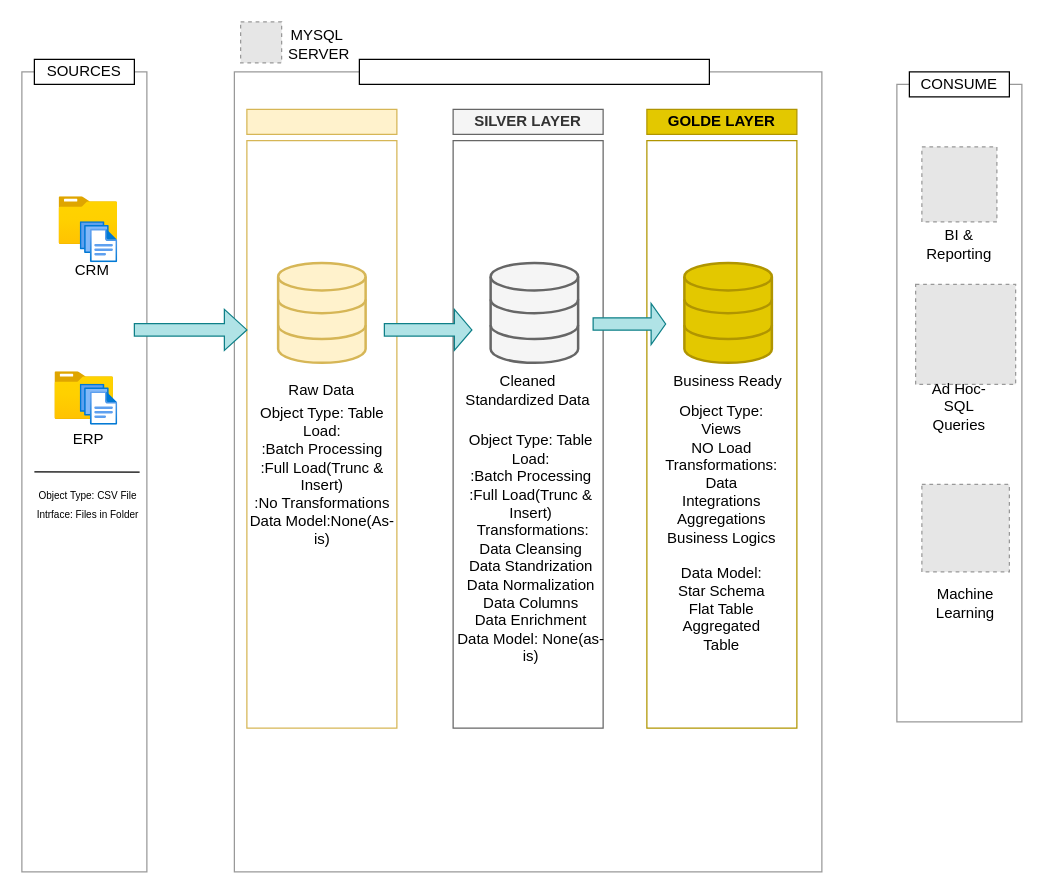
Image size: 1044x894. Some labels were removed from this diagram. Grey dashed boxes stand in for pictures. The shapes that lost their labels are listed below. From the top down, each one's centre as x and y in pixels, then its label:
At (533,71): "DATA WAREHOUSE".
At (321,121): "BRONZE LAYER".
